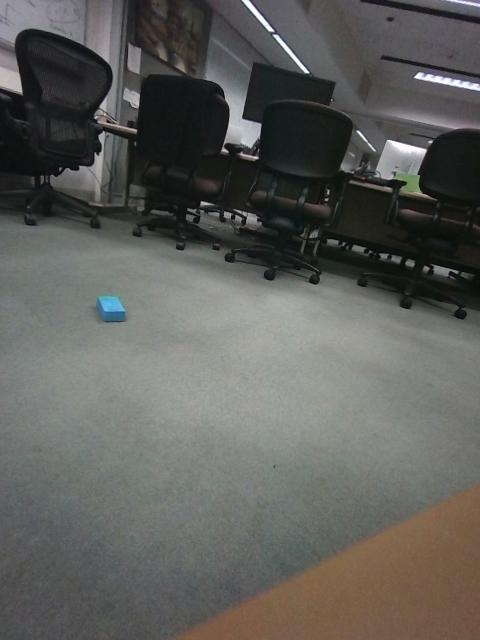block: (105, 379, 178, 461)
